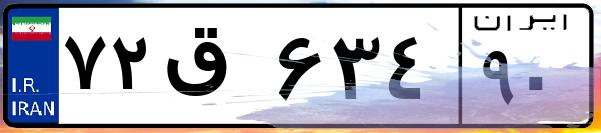0: (525, 38, 570, 115)
2: (110, 28, 158, 98)
3: (330, 28, 385, 110)
4: (385, 28, 445, 110)
6: (270, 28, 330, 110)
7: (57, 26, 110, 100)
9: (475, 38, 525, 113)
ق: (158, 20, 270, 120)
